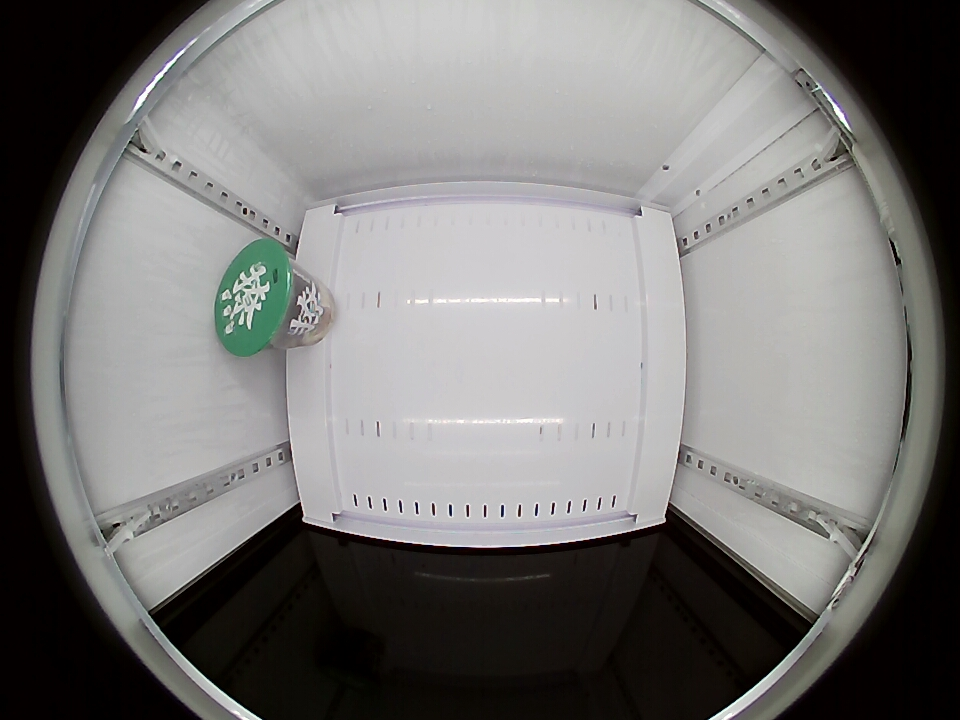liaomian: (213, 239, 304, 356)
